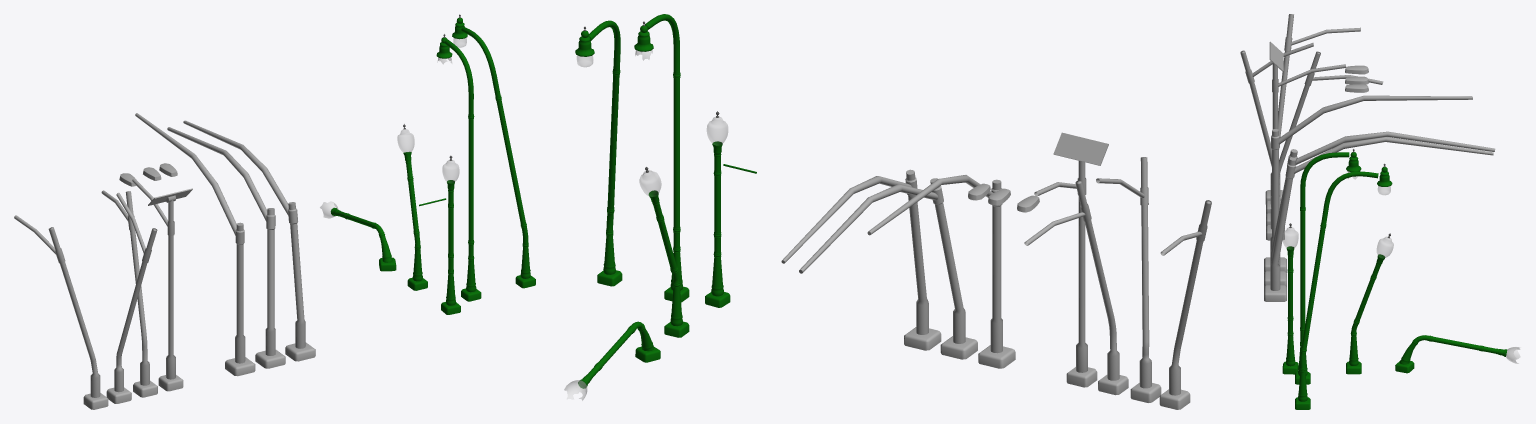
File: Lamps.fbx
3 renders of one model, left to right at view 1: azimuth 30°, elevation 25°; view 2: azimuth 150°, elevation 25°; view 3: azimuth 270°, elevation 25°, orthographic. The views are drawn at different scales.
Visible parts, largest first — view 1: polySurface6, polySurface41, polySurface43, polySurface36, polySurface17, polySurface30, polySurface22, pSphere29, polySurface32, pSphere23, polySurface31, polySurface12; view 2: polySurface41, polySurface43, polySurface6, polySurface36, polySurface17, polySurface32, pSphere23, polySurface31, pSphere29, polySurface30, polySurface22, polySurface25 (+4 smaller); view 3: polySurface43, polySurface6, polySurface36, polySurface17, polySurface41, pSphere29, pSphere23, polySurface30, polySurface32, polySurface31, polySurface12, polySurface22 (+2 smaller).
Boxes of the visible parts, left/top/right/bottom form: polySurface6: left=135, top=113, right=245, bottom=363; polySurface41: left=167, top=127, right=275, bottom=355; polySurface43: left=183, top=120, right=305, bottom=348; polySurface36: left=461, top=27, right=535, bottom=288; polySurface17: left=444, top=39, right=481, bottom=301; polySurface30: left=14, top=215, right=100, bottom=397; polySurface22: left=132, top=178, right=175, bottom=379; pSphere29: left=397, top=124, right=427, bottom=290; polySurface32: left=114, top=192, right=157, bottom=392; pSphere23: left=441, top=155, right=460, bottom=314; polySurface31: left=101, top=190, right=149, bottom=385; polySurface12: left=330, top=207, right=392, bottom=262; polySurface41: left=799, top=178, right=965, bottom=343; polySurface43: left=781, top=169, right=928, bottom=334; polySurface6: left=867, top=175, right=1002, bottom=353; polySurface36: left=588, top=20, right=622, bottom=286; polySurface17: left=645, top=14, right=689, bottom=302; polySurface32: left=1096, top=157, right=1151, bottom=388; pSphere23: left=705, top=111, right=730, bottom=307; polySurface31: left=1024, top=180, right=1119, bottom=380; pSphere29: left=639, top=167, right=689, bottom=337; polySurface30: left=1160, top=200, right=1211, bottom=395; polySurface22: left=1034, top=161, right=1087, bottom=372; polySurface25: left=1053, top=132, right=1108, bottom=165; polySurface43: left=1270, top=137, right=1493, bottom=290; polySurface6: left=1270, top=95, right=1472, bottom=251; polySurface36: left=1295, top=171, right=1378, bottom=409; polySurface17: left=1295, top=152, right=1349, bottom=384; polySurface41: left=1270, top=131, right=1495, bottom=265; pSphere29: left=1346, top=233, right=1393, bottom=374; pSphere23: left=1282, top=223, right=1298, bottom=374; polySurface30: left=1270, top=14, right=1360, bottom=184; polySurface32: left=1240, top=43, right=1313, bottom=203; polySurface31: left=1271, top=51, right=1383, bottom=207; polySurface12: left=1399, top=335, right=1507, bottom=364; polySurface22: left=1270, top=63, right=1345, bottom=229.
Bounding box in the file's own units: 52.33 × 25.18 × 27.33.
